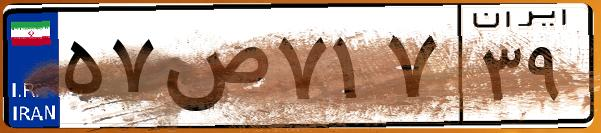1: (330, 28, 385, 110)
3: (475, 38, 525, 113)
5: (57, 26, 110, 100)
7: (270, 28, 330, 110), (385, 28, 445, 110), (110, 28, 158, 98)
9: (525, 38, 570, 115)
ص: (158, 20, 270, 120)
